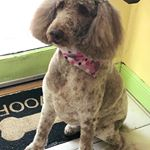puppy: (29, 1, 127, 147)
